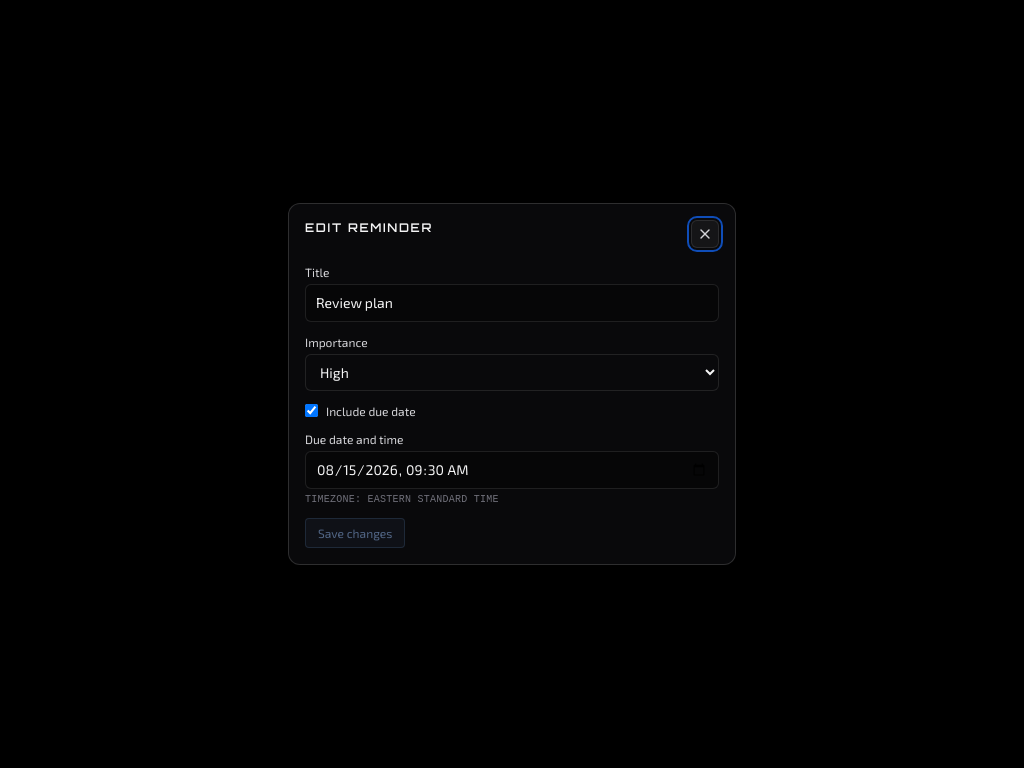
Test: ReminderTaskDialog › keeps the dialog open when the verified action outcome is uncertain
The image size is (1024, 768).
Replace the text in the field showing "Review plan" with "Review revised plan". click: (512, 303)
box: [305,284,719,322]
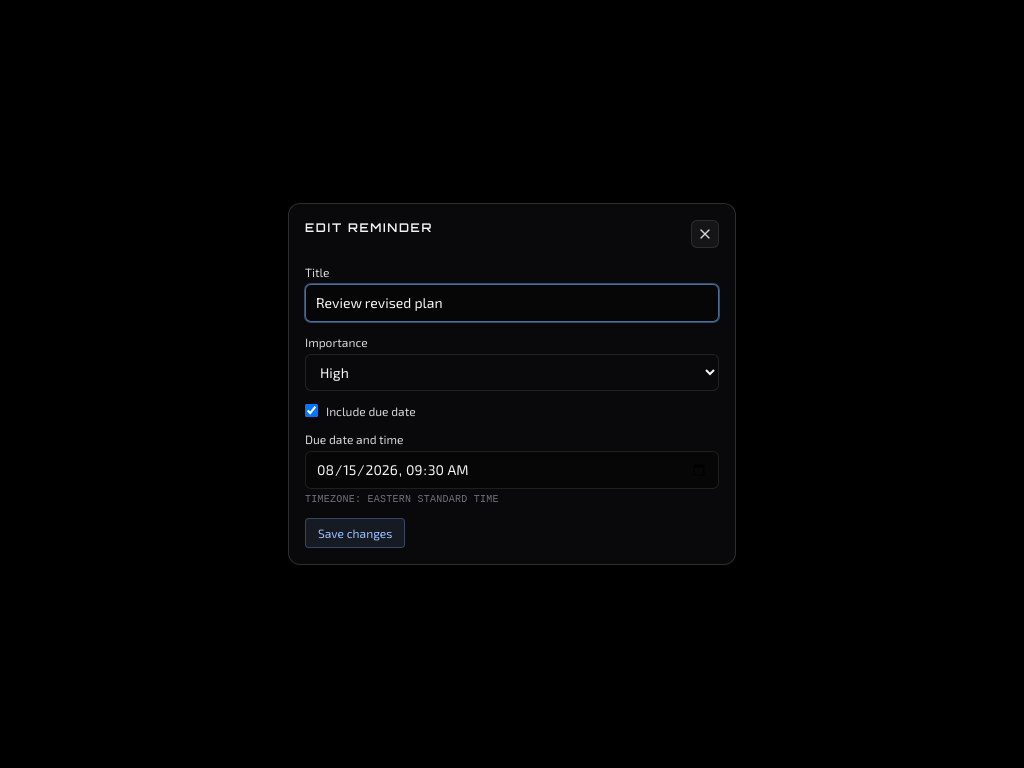
Click the button "Save changes". click: (355, 533)
box: [305,518,405,548]
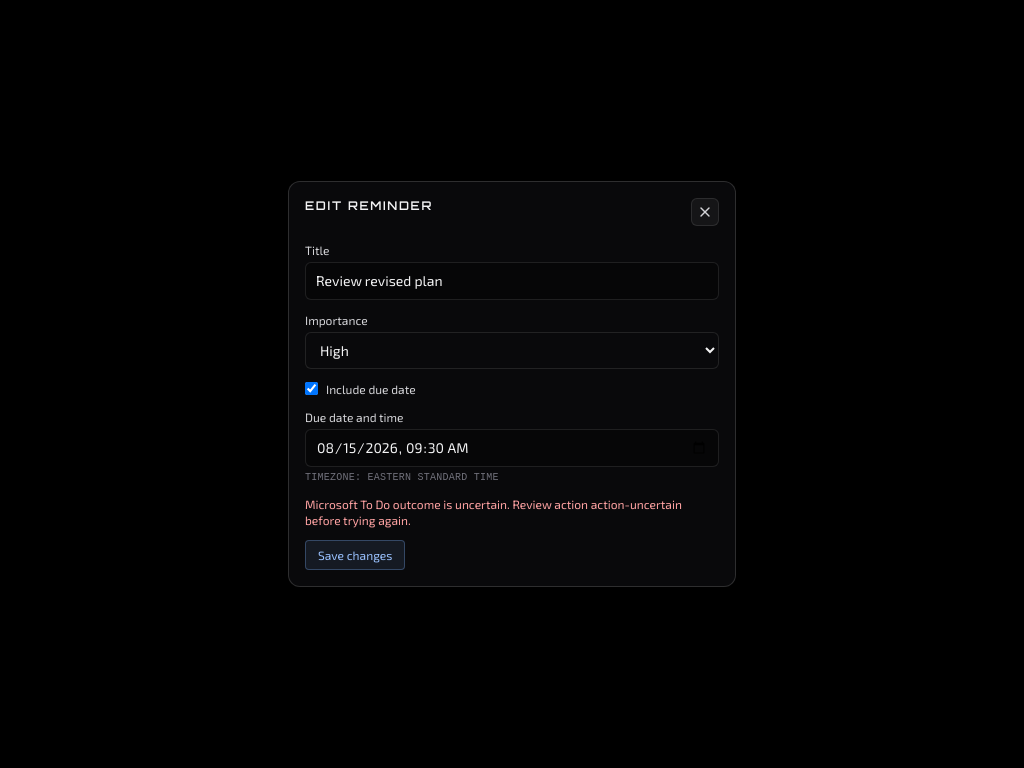
Now the text "action-uncertain" is shown, box [305,497,682,527]
